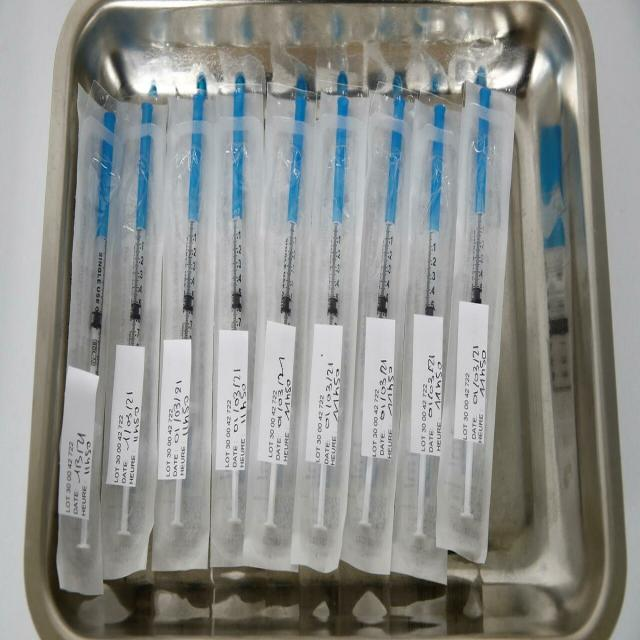B3: (446, 70, 514, 564), (56, 75, 118, 592), (204, 37, 260, 590)
